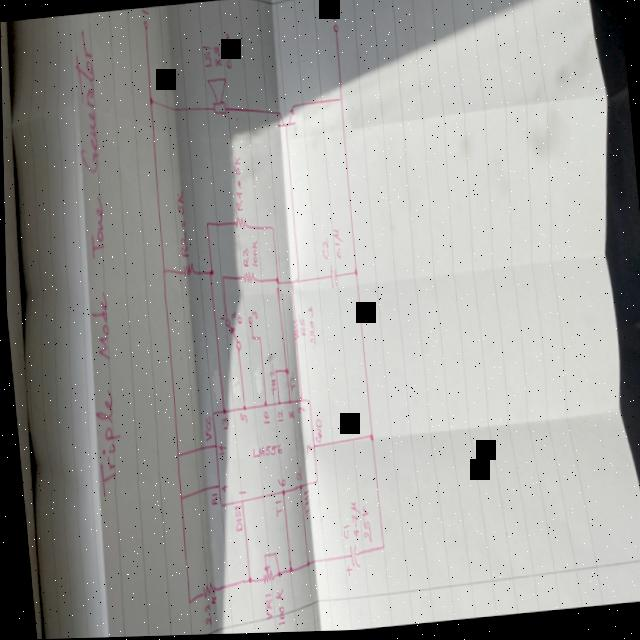capacitor: (339, 544, 358, 580), (325, 265, 336, 292)
junction: (146, 96, 152, 110), (283, 565, 290, 576), (271, 277, 277, 289), (205, 269, 212, 279), (350, 269, 356, 279), (301, 560, 307, 570), (243, 576, 249, 586), (335, 98, 342, 106), (292, 277, 298, 286), (217, 274, 223, 283), (365, 434, 370, 444), (281, 368, 286, 378), (272, 571, 278, 579), (171, 452, 177, 460), (257, 552, 262, 561), (377, 544, 382, 552), (268, 551, 273, 559), (175, 496, 180, 504), (159, 267, 163, 277), (267, 226, 272, 234), (286, 280, 291, 288), (202, 221, 207, 229), (270, 370, 275, 378), (254, 337, 259, 344), (184, 600, 187, 607), (248, 335, 251, 342)
resistor: (196, 582, 213, 602), (256, 566, 270, 587), (231, 216, 246, 232), (179, 263, 192, 281), (288, 318, 297, 344), (239, 272, 253, 287)
switch: (222, 317, 242, 354)
terminal: (330, 26, 337, 38), (141, 20, 148, 32), (245, 316, 251, 328)
text: (57, 28, 131, 500), (172, 190, 187, 261), (228, 155, 243, 215), (198, 596, 216, 636), (345, 502, 359, 542), (269, 588, 282, 629), (356, 505, 369, 546), (248, 445, 280, 461), (220, 34, 232, 72), (303, 308, 313, 348), (330, 230, 342, 263), (325, 0, 340, 25), (298, 490, 309, 520), (259, 593, 270, 622), (265, 363, 274, 398), (200, 46, 212, 71), (247, 241, 257, 270), (210, 44, 221, 70), (309, 420, 320, 446), (229, 506, 239, 534), (317, 238, 328, 263), (199, 417, 209, 444), (238, 248, 248, 271), (270, 499, 280, 520), (295, 316, 304, 339), (213, 443, 224, 459), (217, 417, 227, 433), (286, 373, 293, 395), (338, 526, 347, 543), (272, 410, 281, 426), (258, 412, 267, 428), (206, 492, 215, 508), (273, 478, 283, 491), (292, 467, 299, 485), (216, 484, 225, 496), (302, 445, 310, 458), (236, 413, 244, 426), (139, 8, 148, 19), (294, 408, 303, 418), (233, 490, 243, 499), (248, 310, 255, 322), (284, 411, 291, 422), (227, 312, 234, 322), (216, 316, 222, 323)
transistor: (272, 103, 294, 130)
